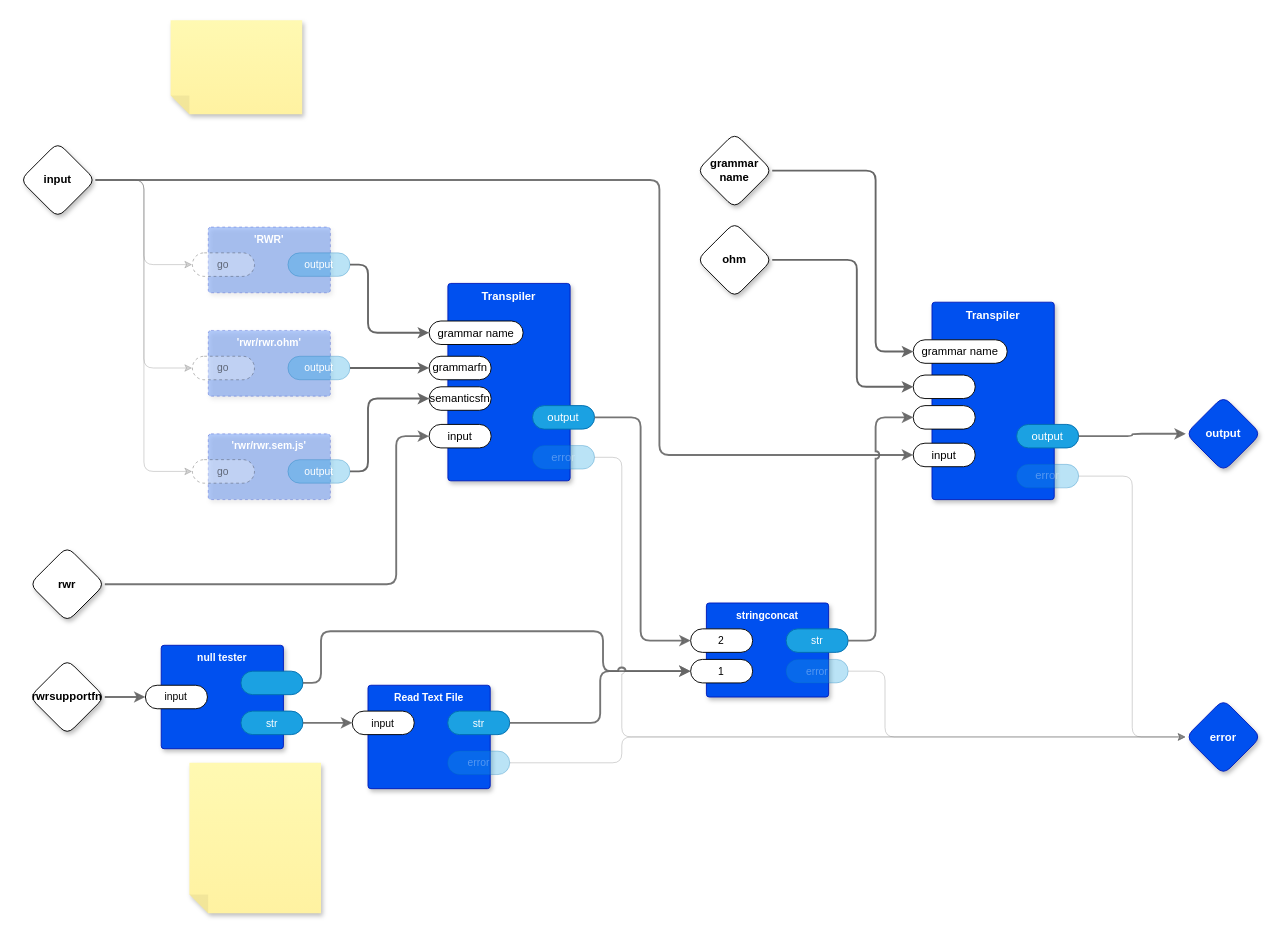
This 1283x935 diagram has some shape labels left out. Each missing label, with the centre of its shape:
"grammar" belongs at (x=943, y=386).
"null" belongs at (x=271, y=682).
"Same as iRewriter, but has an extra filename port for rwr support functions" belongs at (x=236, y=68).
"semantics" belongs at (x=943, y=417).
"trying to think of ways to make iRewriter and isRewriter the same" belongs at (x=255, y=839).
